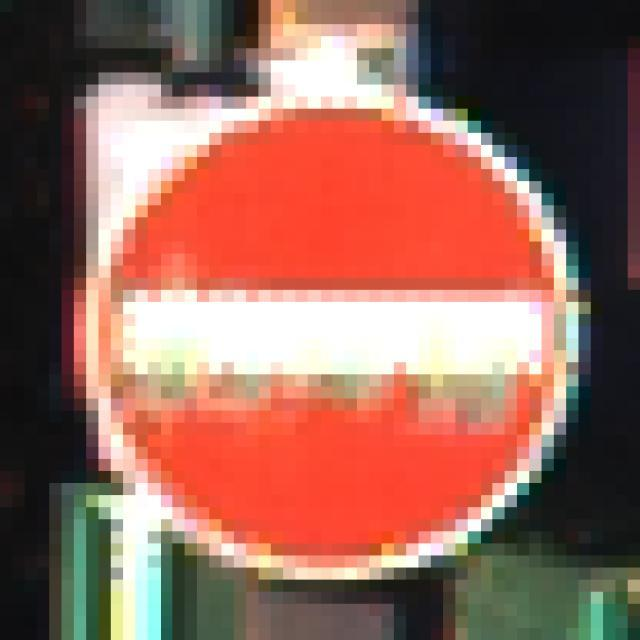no entry: (74, 86, 582, 587)
